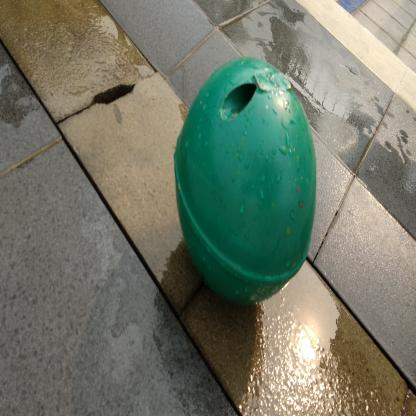green_buoy: (168, 55, 320, 321)
